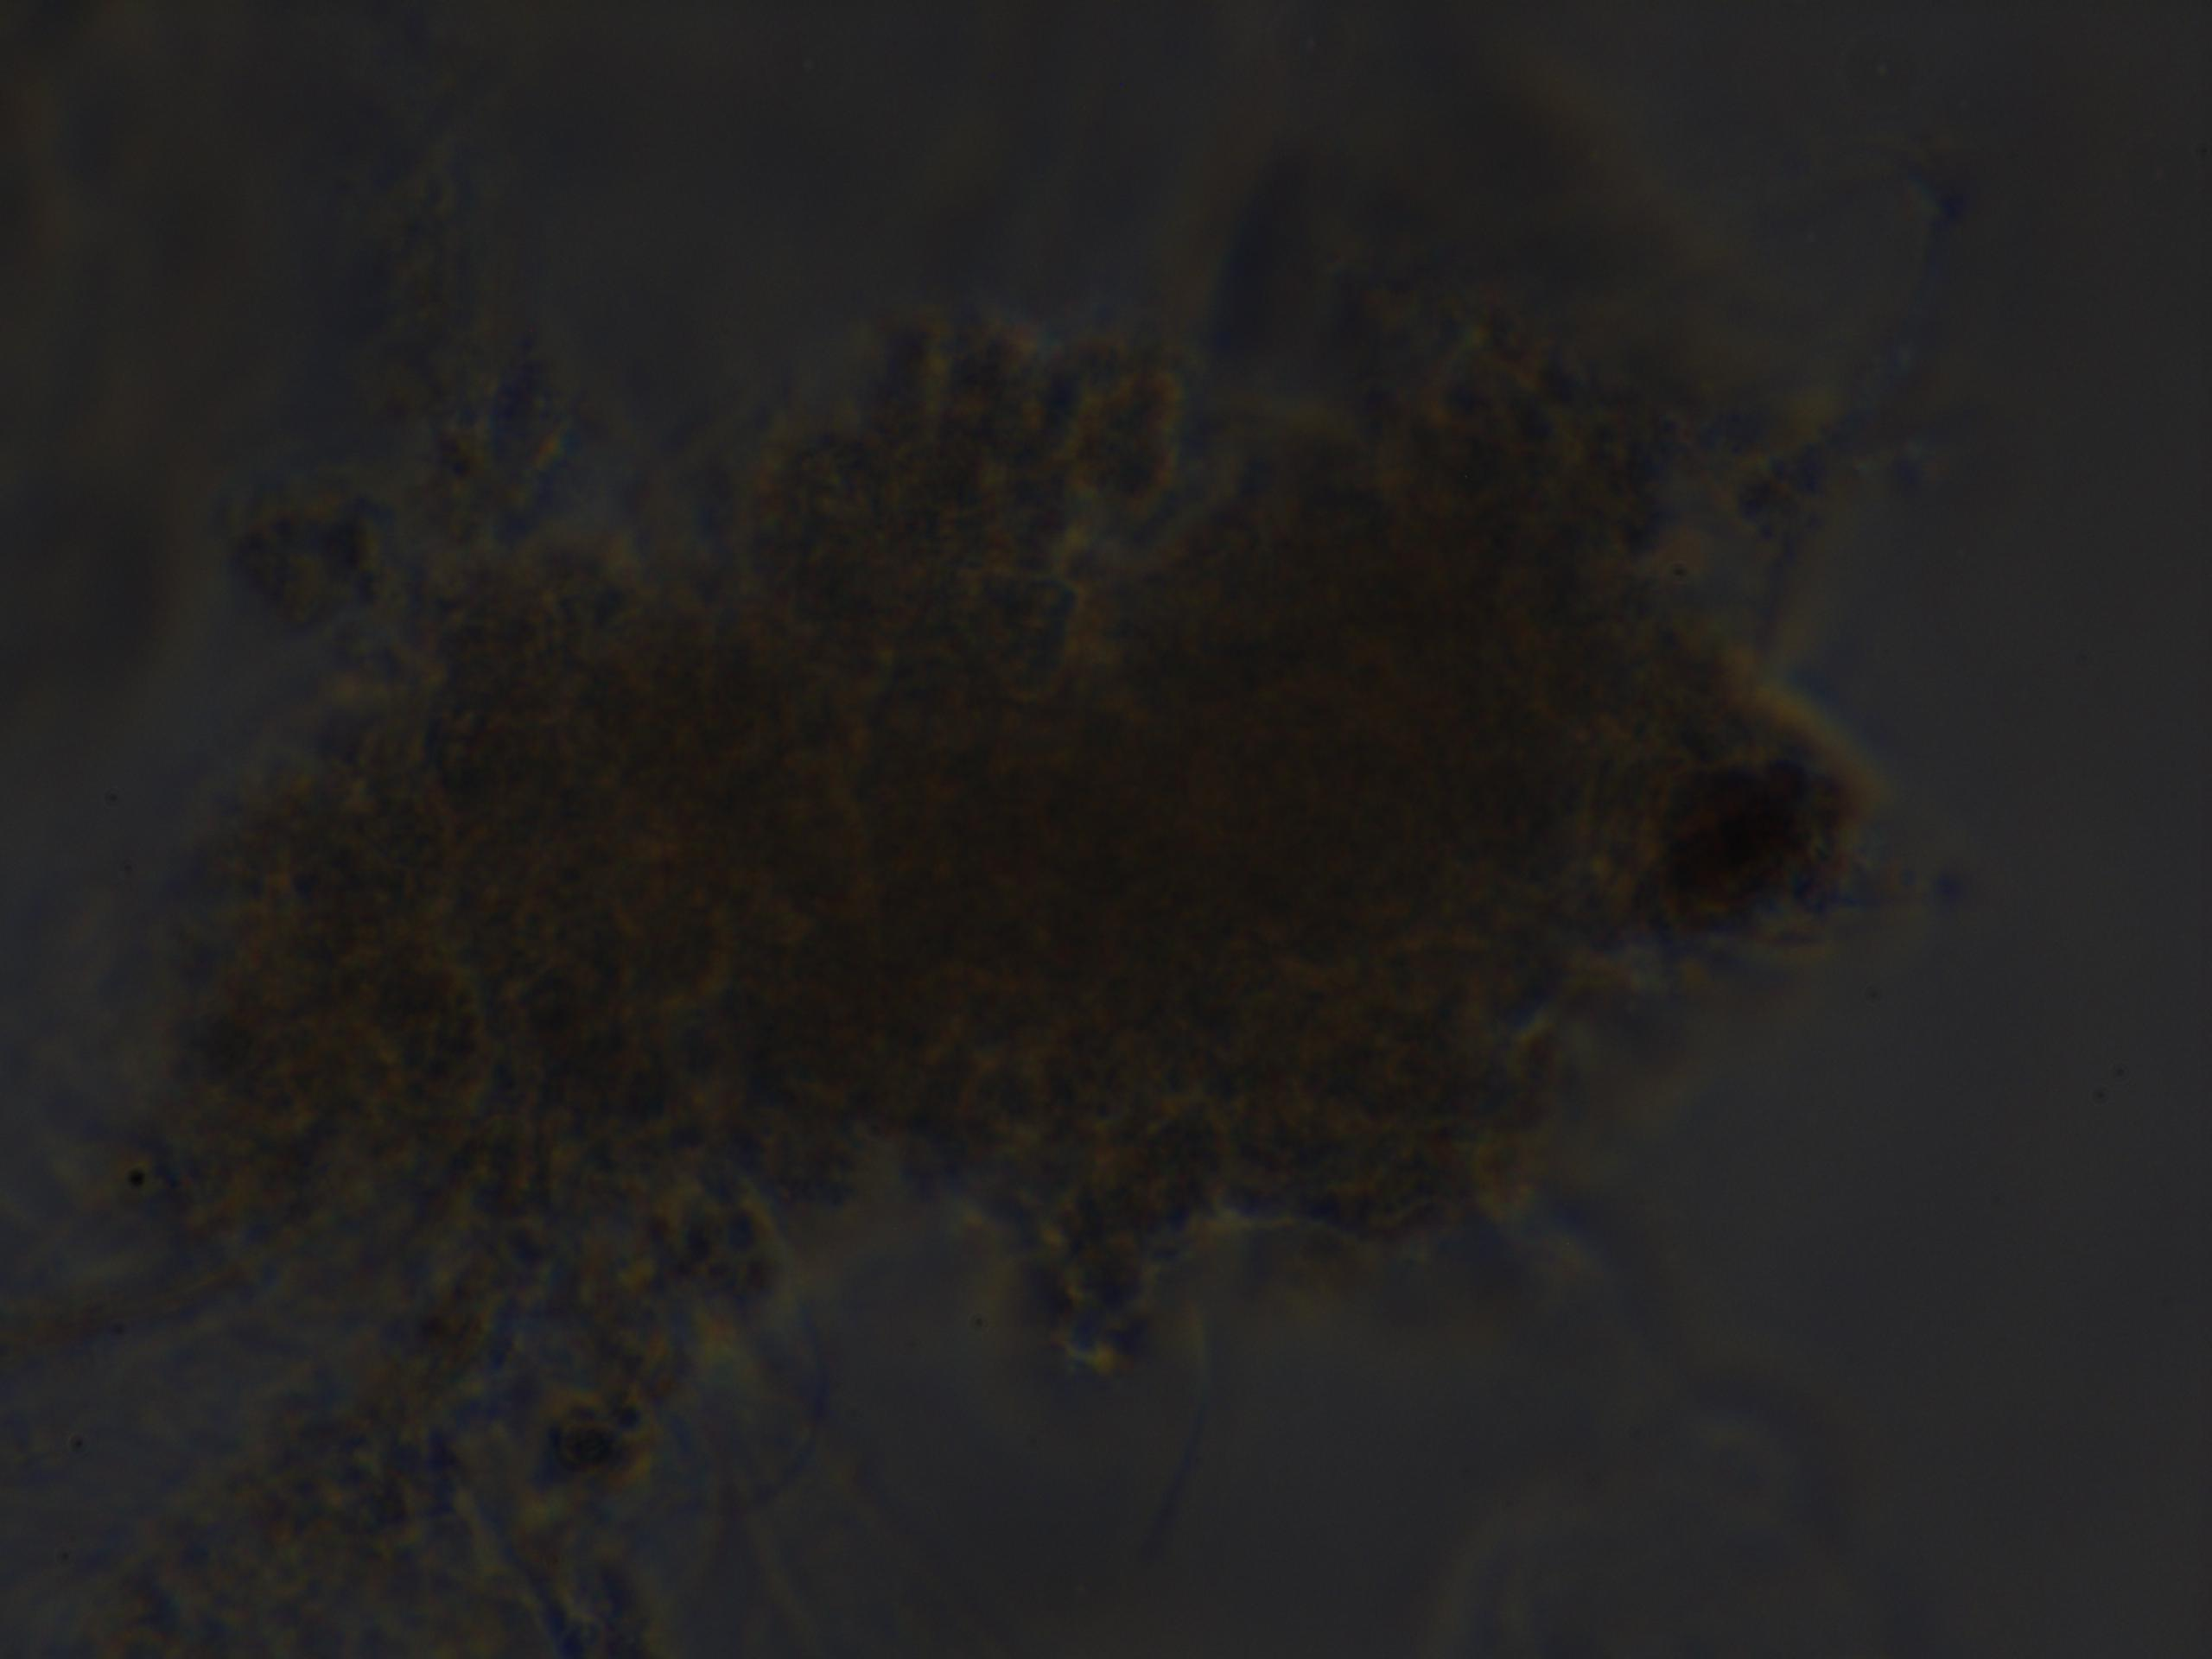spherical_floc: (176, 314, 1904, 1398)
